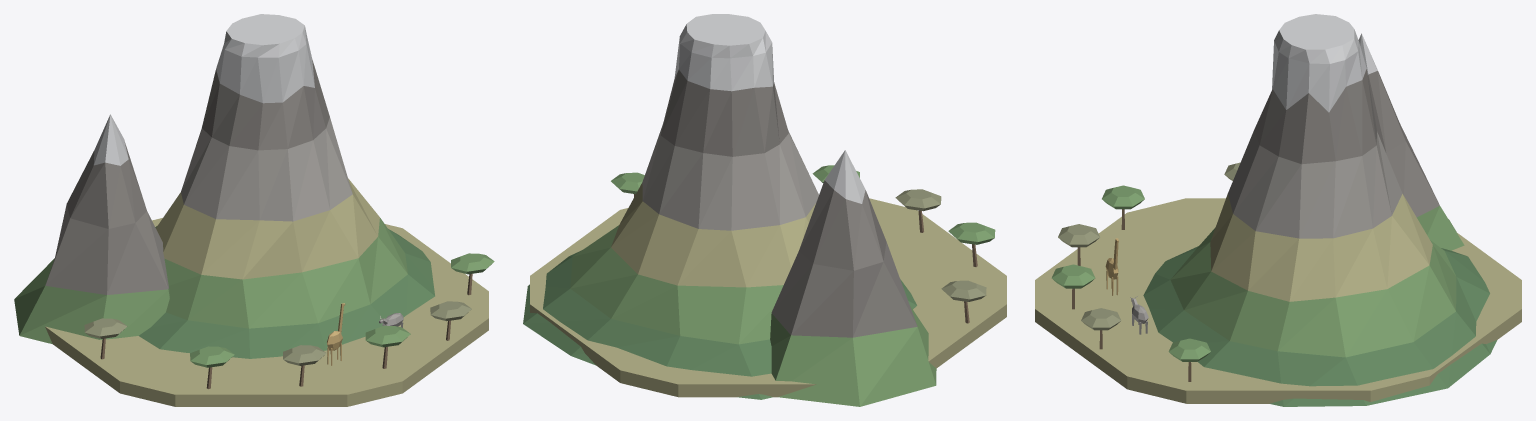
The model's file is mt-kilimanjaro.glb.
The picture shows the model from 3 angles, left to right: view 1: azimuth 30°, elevation 25°; view 2: azimuth 150°, elevation 25°; view 3: azimuth 270°, elevation 25°; orthographic projection. The views are drawn at different scales.
Parts seen in each view (by area): view 1: LOD0; view 2: LOD0; view 3: LOD0.
Boxes of the visible parts, x1,y1,x2,y2 form: LOD0: [14, 14, 494, 406]; LOD0: [523, 14, 1006, 406]; LOD0: [1035, 14, 1521, 406].
Size of what is drawn, in the model's own units: 1.75 by 1.14 by 1.76.
